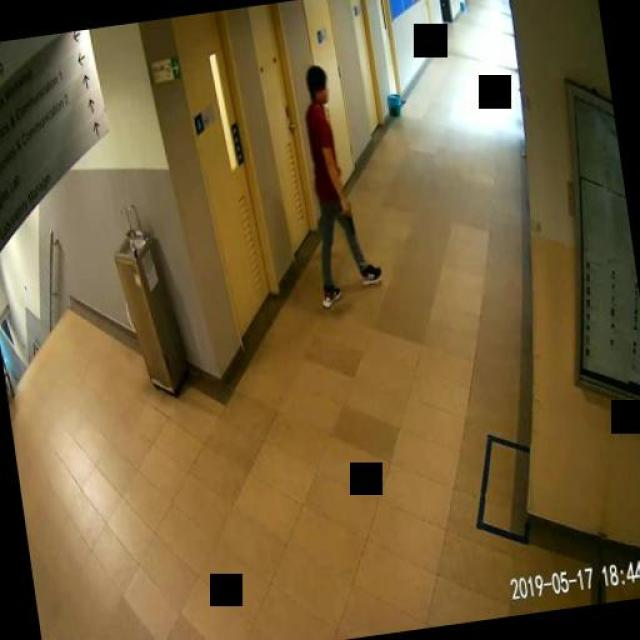gun: (337, 199, 355, 235)
